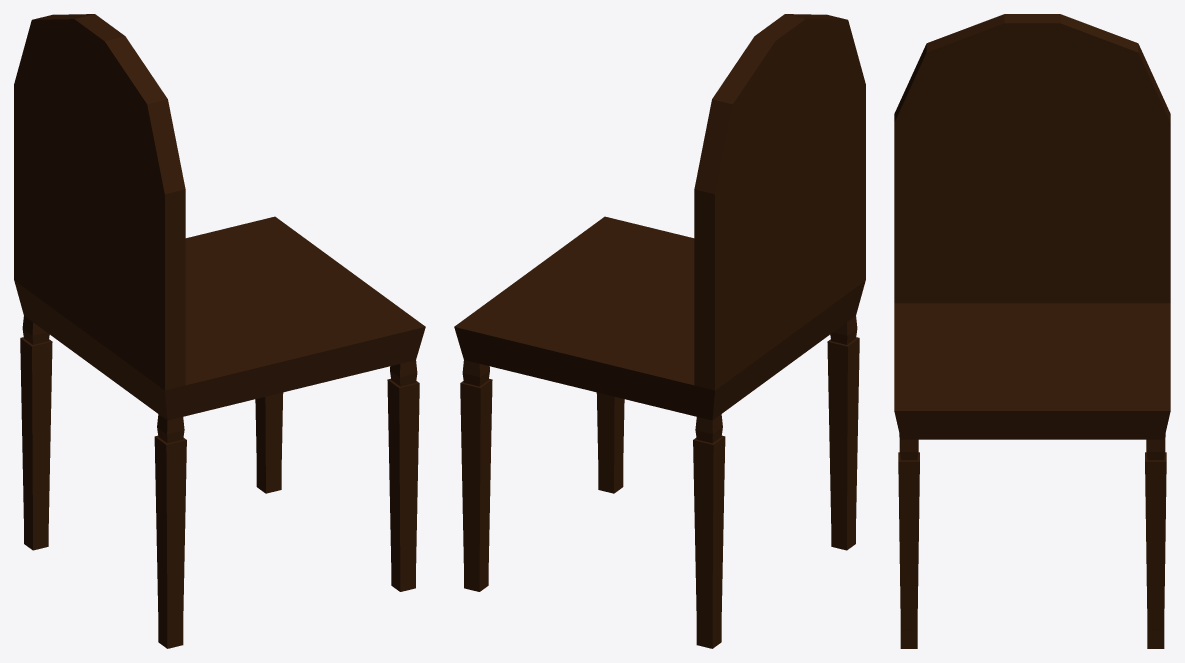
Rendered from Sandalye.fbx.
The picture shows the model from 3 angles, left to right: view 1: azimuth 30°, elevation 25°; view 2: azimuth 150°, elevation 25°; view 3: azimuth 270°, elevation 25°; orthographic projection. The views are drawn at different scales.
Parts seen in each view (by area): view 1: Cube; view 2: Cube; view 3: Cube.
Part boxes in pixels (x1,y1,x2,y2): Cube: (14,14,425,648); Cube: (454,14,865,648); Cube: (894,14,1170,648).
Bounding box in the file's own units: 200 × 416 × 200.
